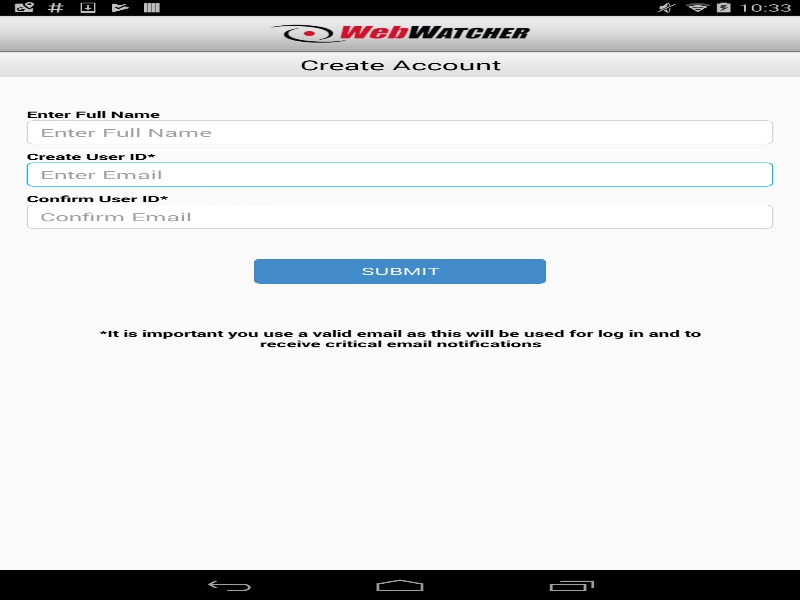Button: (254, 258, 546, 283)
Input: (26, 120, 773, 144), (26, 162, 773, 186), (26, 204, 773, 228)
